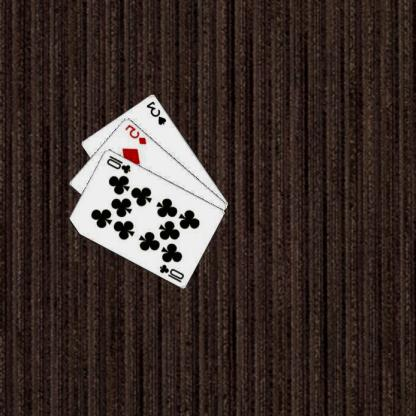10C: (159, 262, 187, 284), (106, 153, 134, 174)
3S: (146, 98, 169, 126)
5D: (124, 122, 149, 146)
